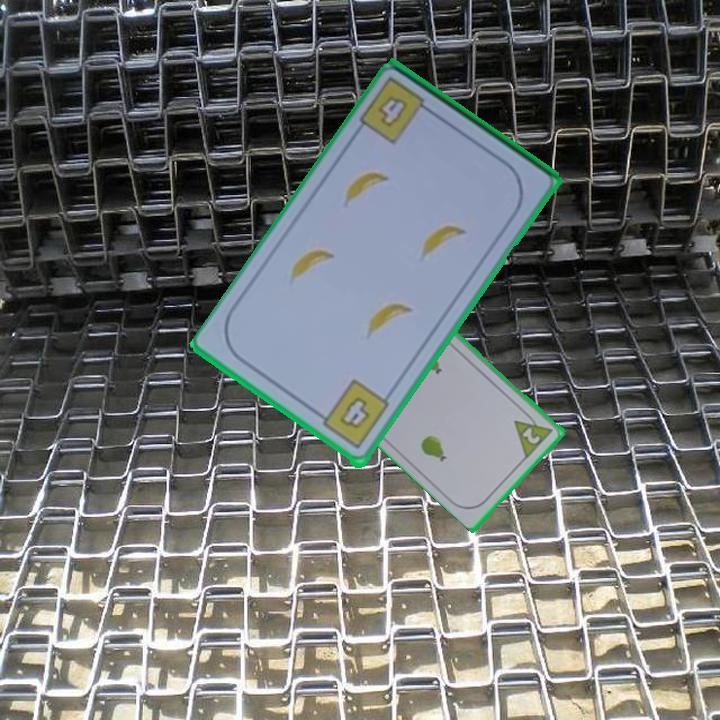2p: (519, 424, 544, 447)
4b: (312, 377, 392, 453), (374, 92, 412, 131)
